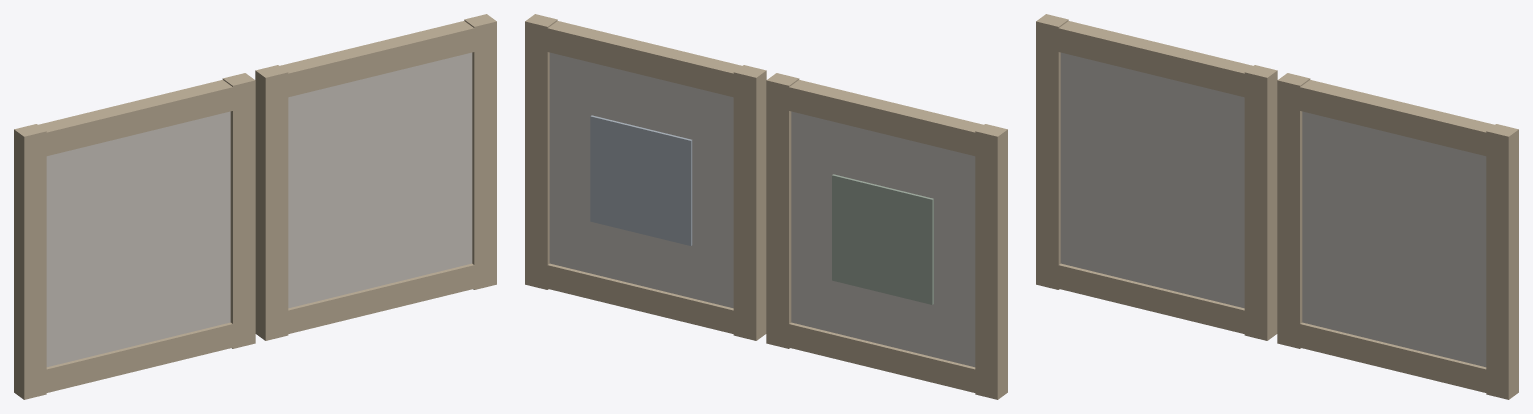
File: arte_quadro_duplo.glb
3 views of the same model, side by side, from view 1: azimuth 30°, elevation 25°; view 2: azimuth 150°, elevation 25°; view 3: azimuth 330°, elevation 25° (orthographic).
Visible parts, largest first — view 1: ARTE_QUADRO_DUPLO_v01; view 2: ARTE_QUADRO_DUPLO_v01; view 3: ARTE_QUADRO_DUPLO_v01.
Part boxes in pixels (left/top/right/bottom): ARTE_QUADRO_DUPLO_v01: left=14, top=14, right=496, bottom=399; ARTE_QUADRO_DUPLO_v01: left=525, top=14, right=1007, bottom=399; ARTE_QUADRO_DUPLO_v01: left=1036, top=14, right=1518, bottom=399.
Size of the model in its own units: 0.94 by 0.5 by 0.035.
